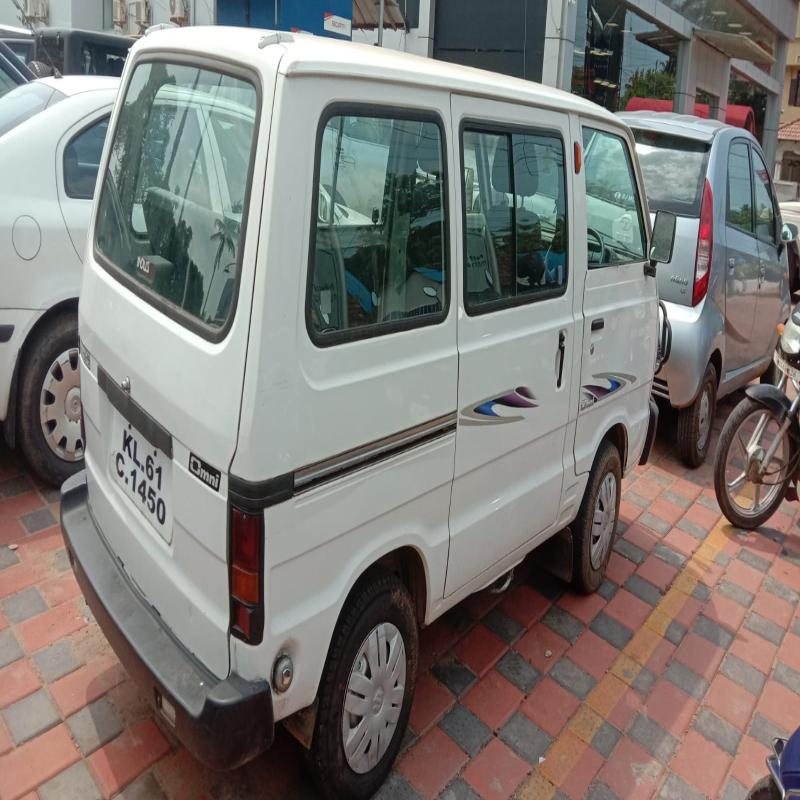car: (72, 0, 650, 699)
